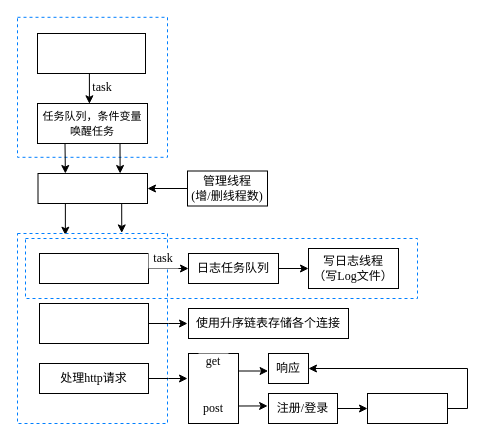
This 493x442 diagram has some shape labels left out. Each missing label, with the centre of its shape:
主线程 epoll 监听socket: point 91,53
定时器处理 过期连接: point 93,323
工作线程池: point 92,188
数据库处理: point 407,408
日志输出: point 93,268
